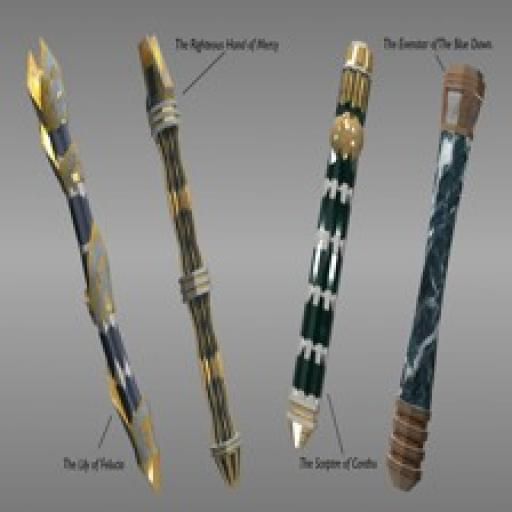lightsaber: (22, 33, 162, 494), (134, 32, 240, 488), (390, 64, 488, 490), (288, 37, 376, 451)
